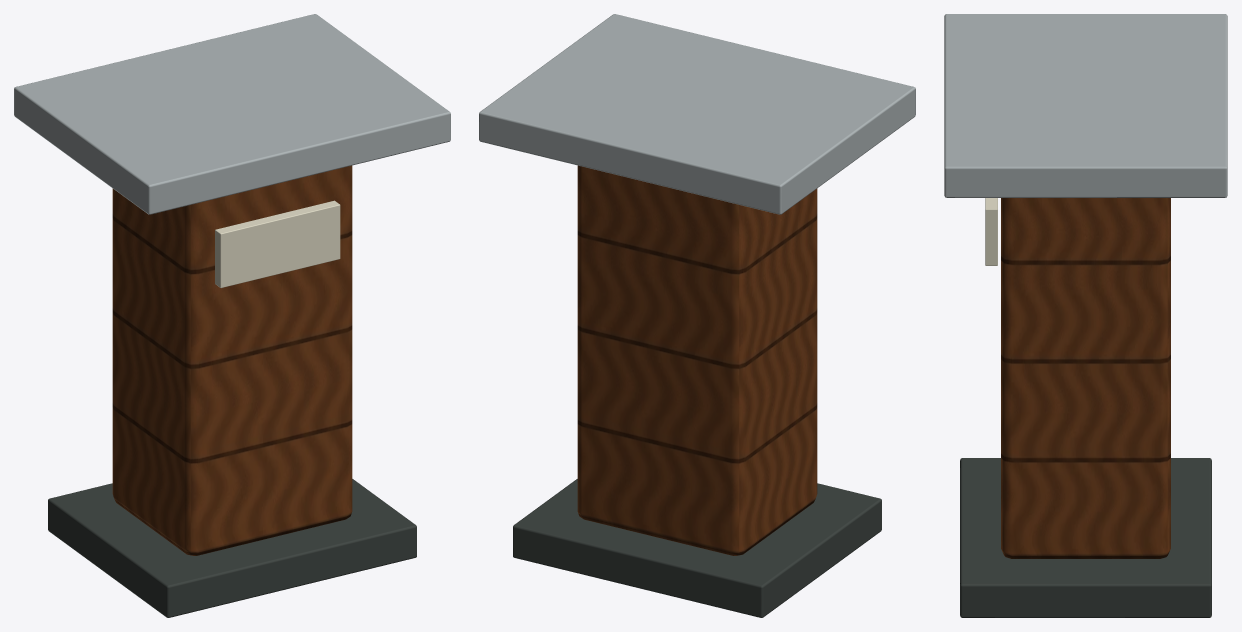
Rendered from research-and-crafting-progression-prototype-display-pe-3413d87f__2883.glb.
3 views of the same model, side by side, from view 1: azimuth 30°, elevation 25°; view 2: azimuth 150°, elevation 25°; view 3: azimuth 270°, elevation 25° (orthographic). The views are drawn at different scales.
Visible parts, largest first — view 1: prototype-display-pedestal; view 2: prototype-display-pedestal; view 3: prototype-display-pedestal.
Boxes of the visible parts, x1,y1,x2,y2 form: prototype-display-pedestal: (14, 14, 450, 617); prototype-display-pedestal: (479, 14, 915, 617); prototype-display-pedestal: (944, 14, 1227, 617).
Size of the model in its own units: 0.58 by 0.815 by 0.45.
4 materials, 1 textured.
